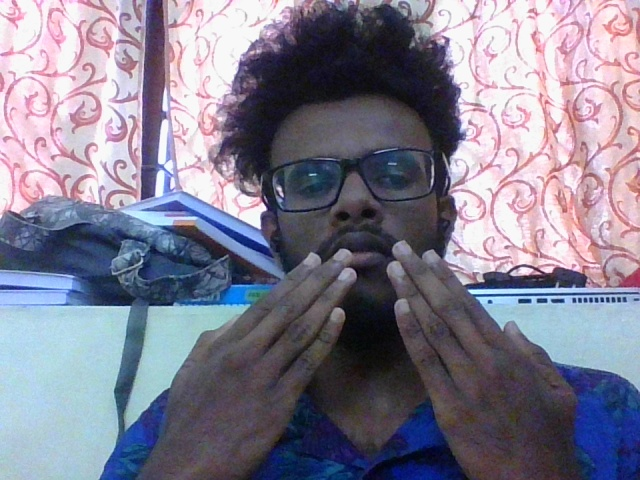thank: (149, 238, 586, 472)
